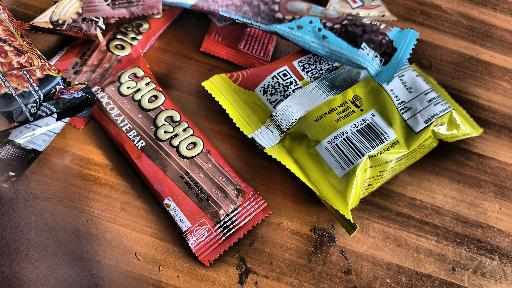chocho: (83, 62, 291, 265)
momotaro: (195, 48, 483, 191)
